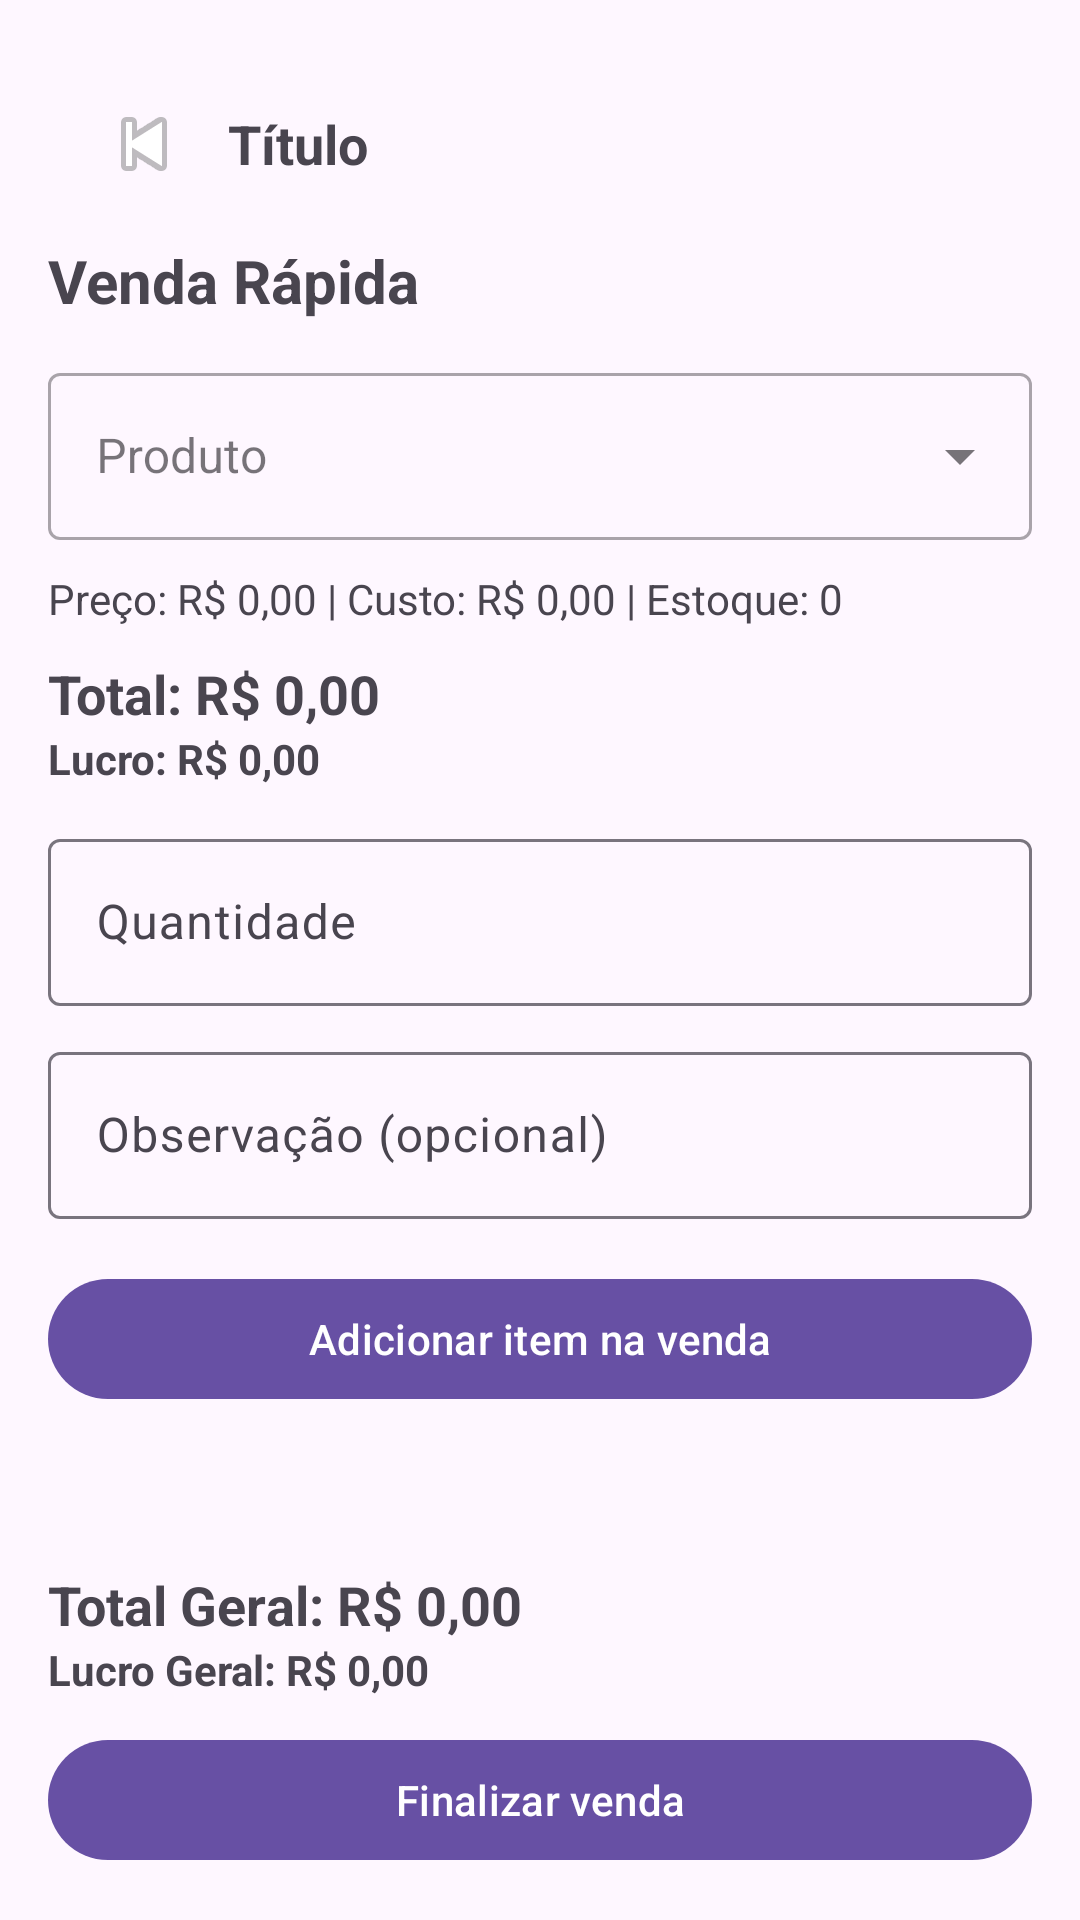

Icons on this 1080w x 1920h Android screen, each with the point to tap as (x=x, y=y):
Voltar: (x=144, y=144)
